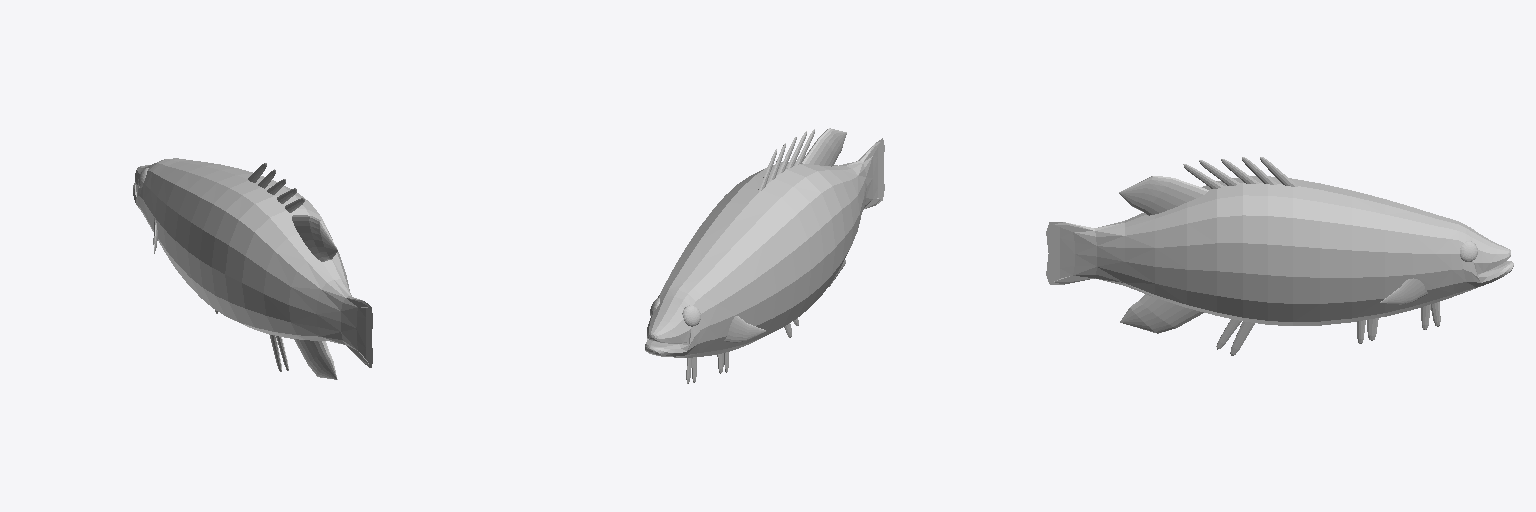
File: fish_model.obj
The picture shows the model from 3 angles: view 1: azimuth 30°, elevation 25°; view 2: azimuth 150°, elevation 25°; view 3: azimuth 270°, elevation 25°; orthographic projection.
Visible parts, largest first — view 1: fish_model:fish_OBJ fish_model:polySurface1, fish_model:fin_top fish_model:fish_OBJ fish_model:polySurface1, fish_model:fin_bottom fish_model:fish_OBJ fish_model:polySurface; view 2: fish_model:fish_OBJ fish_model:polySurface1, fish_model:fin_top fish_model:fish_OBJ fish_model:polySurface1, fish_model:fin_left fish_model:fish_OBJ fish_model:polySurface1; view 3: fish_model:fish_OBJ fish_model:polySurface1, fish_model:fin_top fish_model:fish_OBJ fish_model:polySurface1, fish_model:fin_bottom fish_model:fish_OBJ fish_model:polySurface, fish_model:fin_right fish_model:fish_OBJ fish_model:polySurface1.
Boxes of the visible parts, box(x1,y1,x2,y2) form: fish_model:fish_OBJ fish_model:polySurface1: box(133, 158, 372, 367); fish_model:fin_top fish_model:fish_OBJ fish_model:polySurface1: box(292, 215, 337, 261); fish_model:fin_bottom fish_model:fish_OBJ fish_model:polySurface: box(294, 339, 337, 379); fish_model:fish_OBJ fish_model:polySurface1: box(645, 138, 884, 357); fish_model:fin_top fish_model:fish_OBJ fish_model:polySurface1: box(802, 128, 846, 166); fish_model:fin_left fish_model:fish_OBJ fish_model:polySurface1: box(724, 316, 765, 342); fish_model:fish_OBJ fish_model:polySurface1: box(1046, 176, 1513, 325); fish_model:fin_top fish_model:fish_OBJ fish_model:polySurface1: box(1119, 176, 1208, 215); fish_model:fin_bottom fish_model:fish_OBJ fish_model:polySurface: box(1120, 294, 1203, 333); fish_model:fin_right fish_model:fish_OBJ fish_model:polySurface1: box(1380, 278, 1427, 304).
Size of the model in its own units: 0.2477 by 0.4643 by 0.9881.